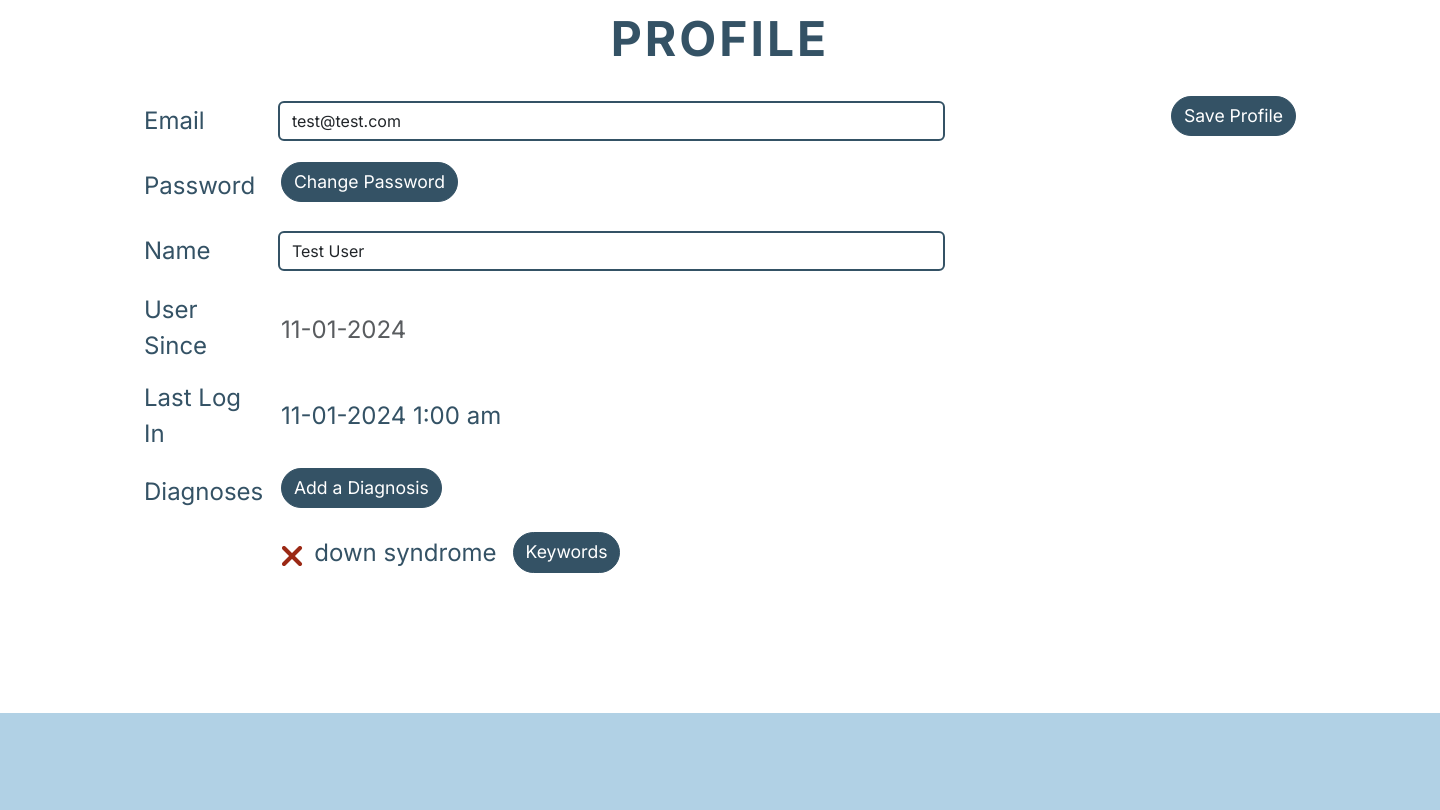
opens a keyword modal
Click the button "Keywords" at (566, 553), box x1=512 y1=532 x2=620 y2=573
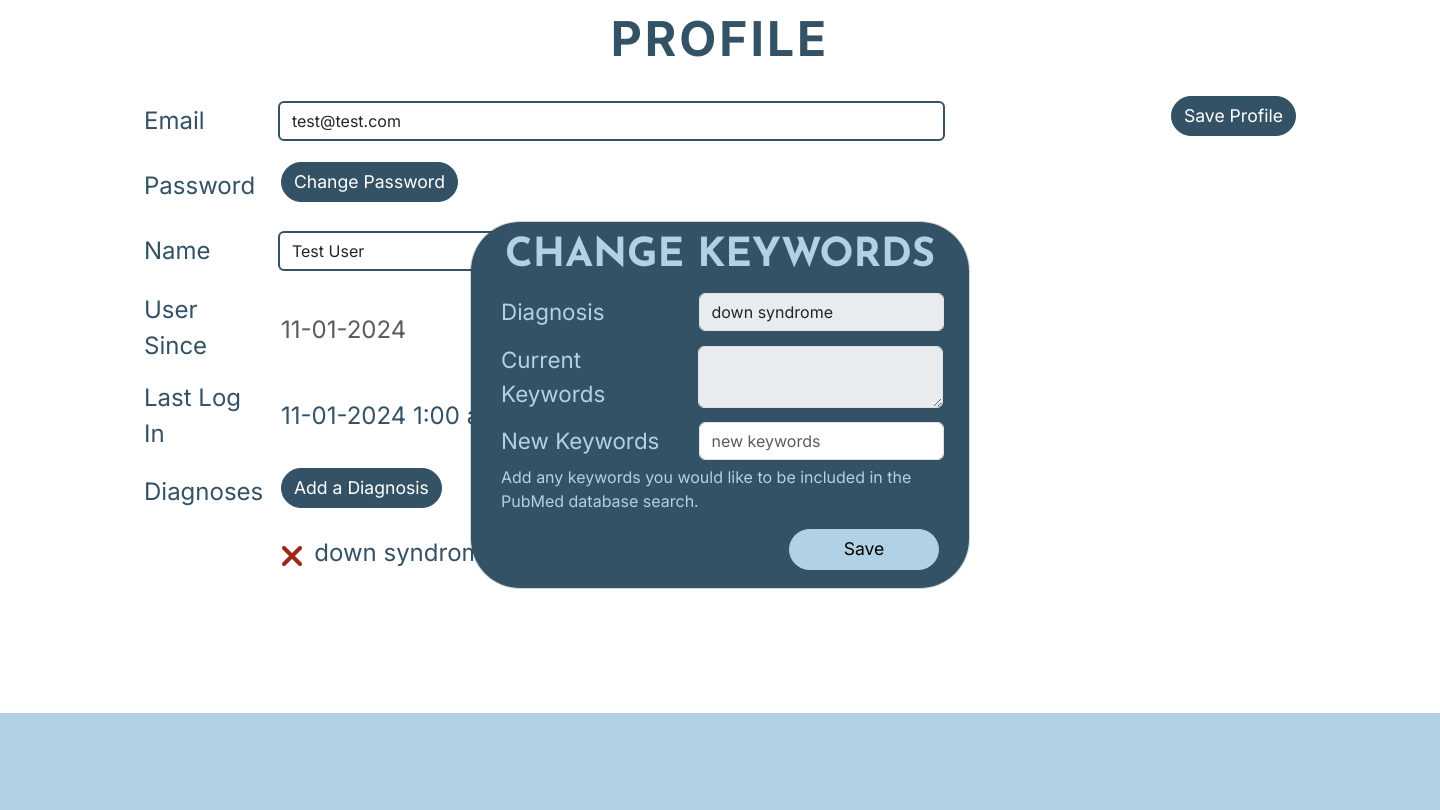
Now the heading "Change Keywords" is shown, box x1=501 y1=232 x2=939 y2=280
